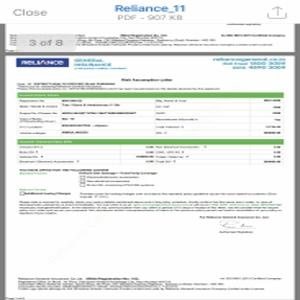image: (16, 56, 70, 69)
table: (16, 91, 284, 139), (18, 139, 286, 166)
text: (18, 191, 287, 218), (16, 274, 284, 289), (20, 169, 161, 188), (210, 55, 287, 70)
